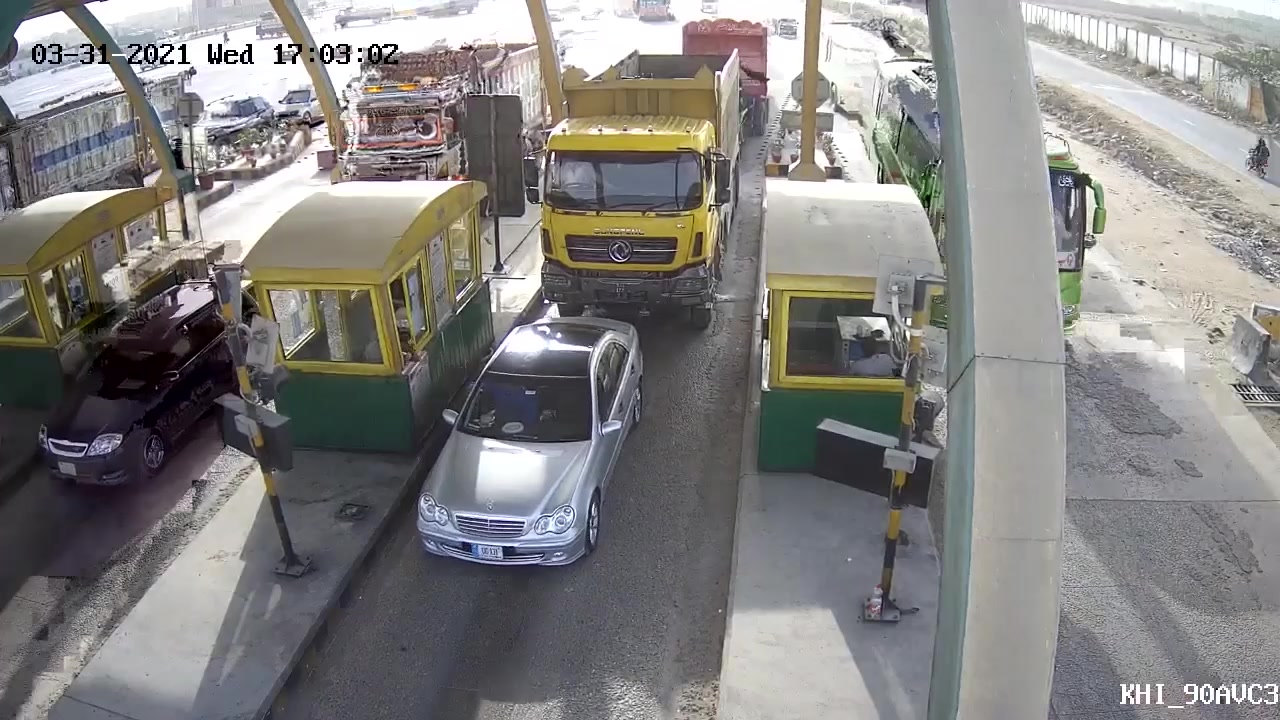F1: (407, 309, 652, 569)
F5: (530, 43, 745, 338)
